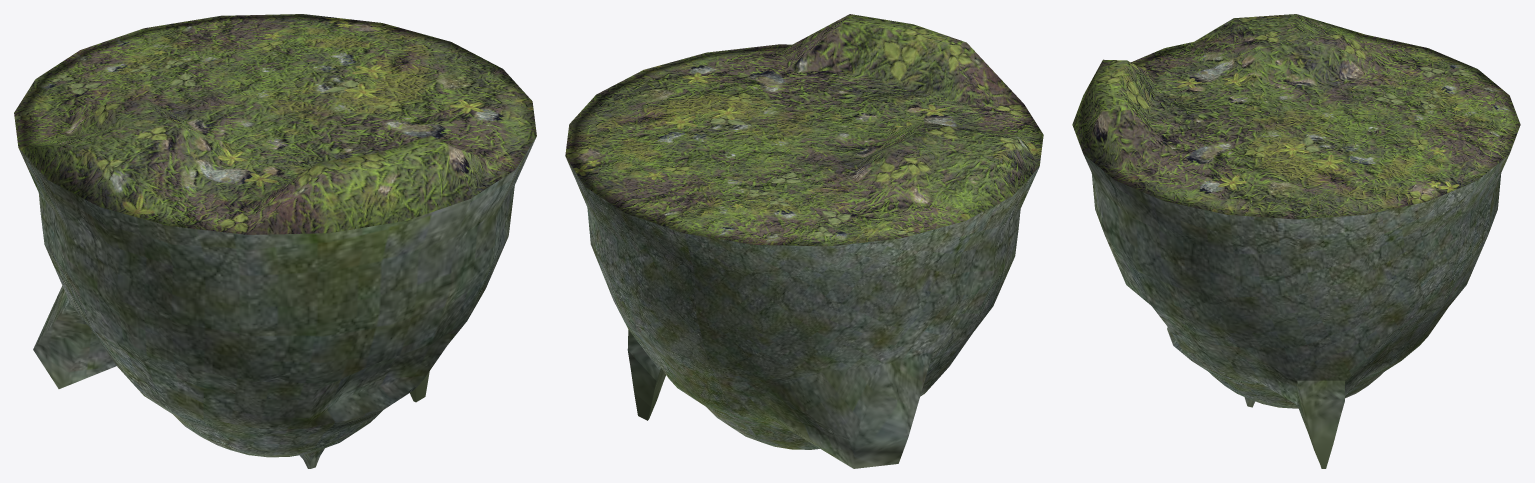
The model's file is rockyIsland.fbx.
3 views of the same model, side by side, from view 1: azimuth 30°, elevation 25°; view 2: azimuth 150°, elevation 25°; view 3: azimuth 270°, elevation 25° (orthographic). The views are drawn at different scales.
Parts seen in each view (by area): view 1: rockyIsland; view 2: rockyIsland; view 3: rockyIsland.
Part boxes in pixels (x1,y1,x2,y2): rockyIsland: (14, 14, 536, 468); rockyIsland: (565, 14, 1043, 468); rockyIsland: (1072, 14, 1520, 468).
Size of the model in its own units: 11.57 by 9.11 by 11.57.
